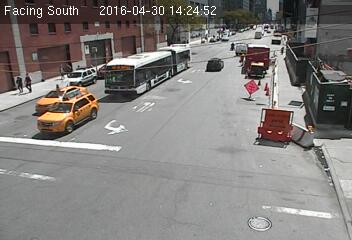neg: (156, 22, 172, 44), (97, 45, 112, 64), (192, 32, 206, 51), (263, 22, 277, 39), (61, 25, 73, 42), (226, 38, 238, 54), (247, 13, 259, 29), (88, 72, 100, 88), (134, 35, 145, 49), (81, 25, 92, 39), (231, 21, 239, 32)
pos: (11, 74, 26, 95), (22, 73, 37, 93), (237, 51, 250, 68), (54, 64, 67, 80), (63, 62, 75, 78), (279, 44, 288, 56)
